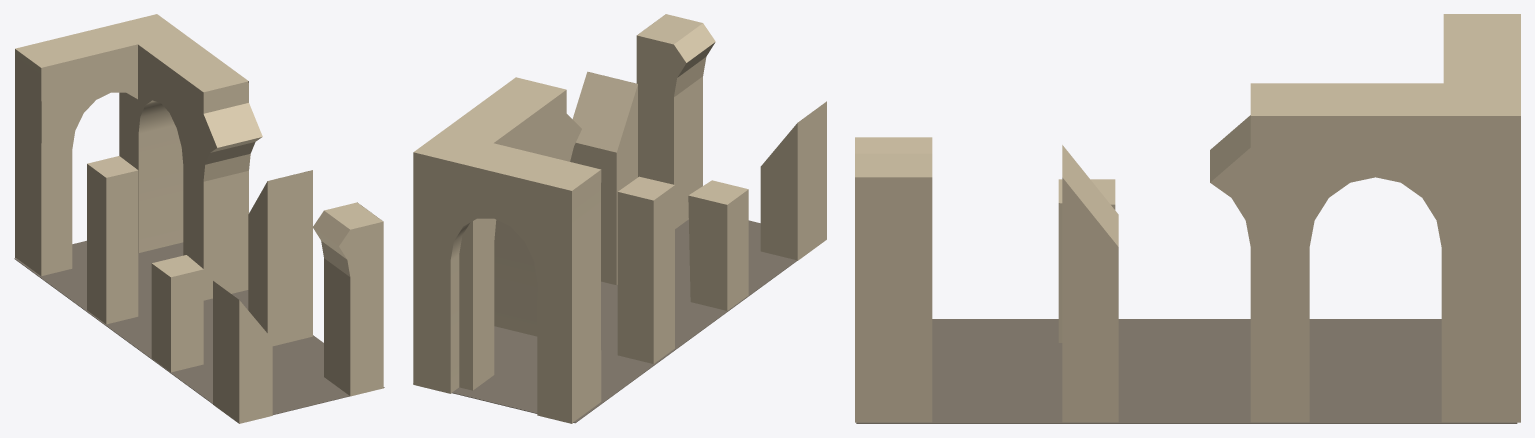
File: orangerie_destroy.fbx
The picture shows the model from 3 angles, left to right: view 1: azimuth 30°, elevation 25°; view 2: azimuth 150°, elevation 25°; view 3: azimuth 270°, elevation 25°; orthographic projection. The views are drawn at different scales.
Visible parts, largest first — view 1: pasted__arche_1; view 2: pasted__arche_1; view 3: pasted__arche_1.
Part boxes in pixels (bbox=[...]): pasted__arche_1: bbox=[14, 14, 384, 423]; pasted__arche_1: bbox=[413, 14, 826, 423]; pasted__arche_1: bbox=[855, 14, 1520, 423].
Bounding box in the file's own units: 1.93 × 2.64 × 5.19.
